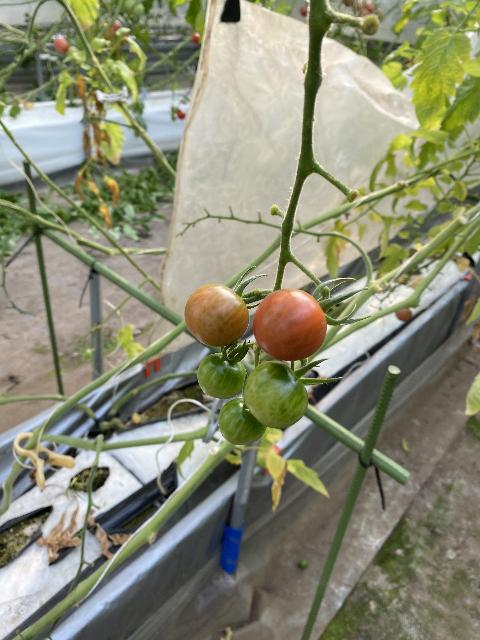l_fully_ripened: (253, 289, 327, 362)
l_green: (244, 361, 309, 429), (218, 398, 268, 446), (197, 353, 246, 400)
l_half_ripened: (184, 283, 250, 347)
